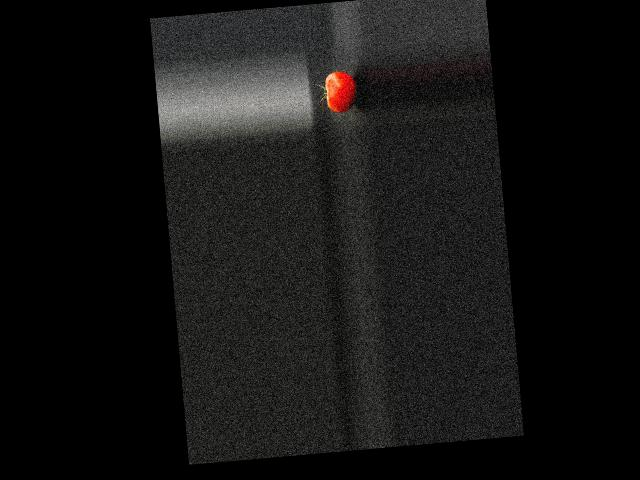tomato: (324, 69, 358, 112)
